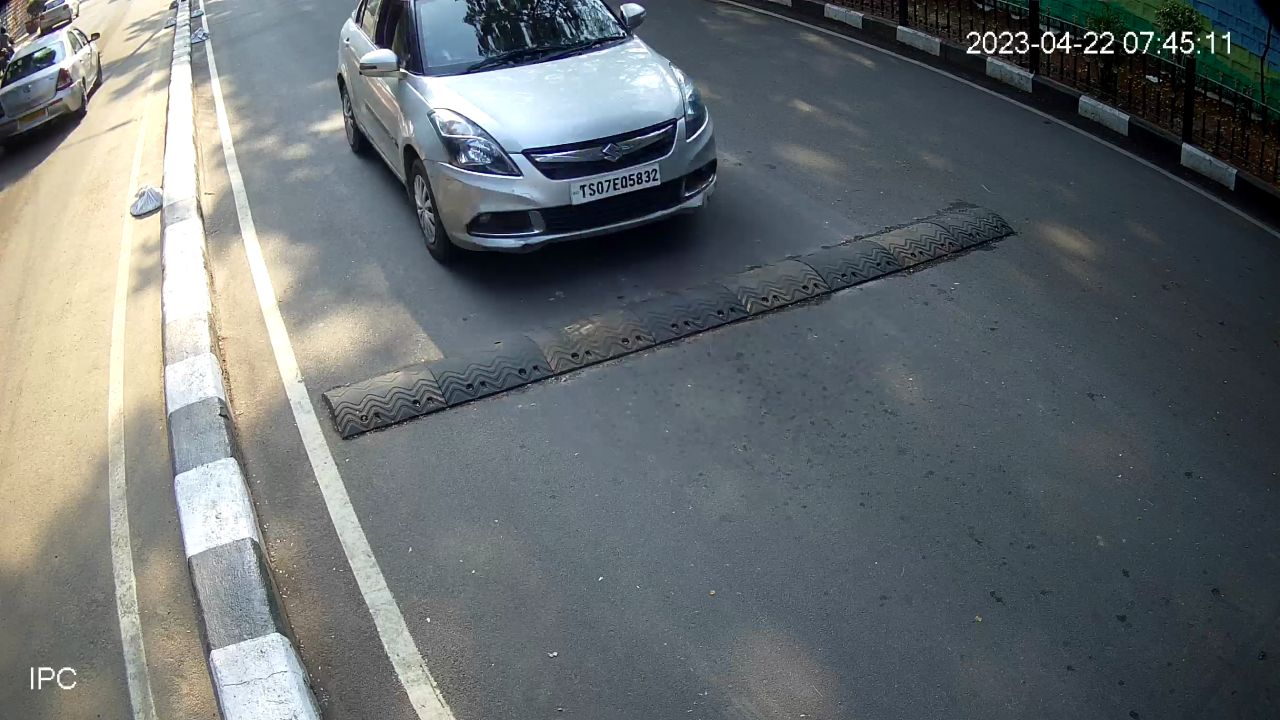license_plate: (566, 158, 668, 212)
